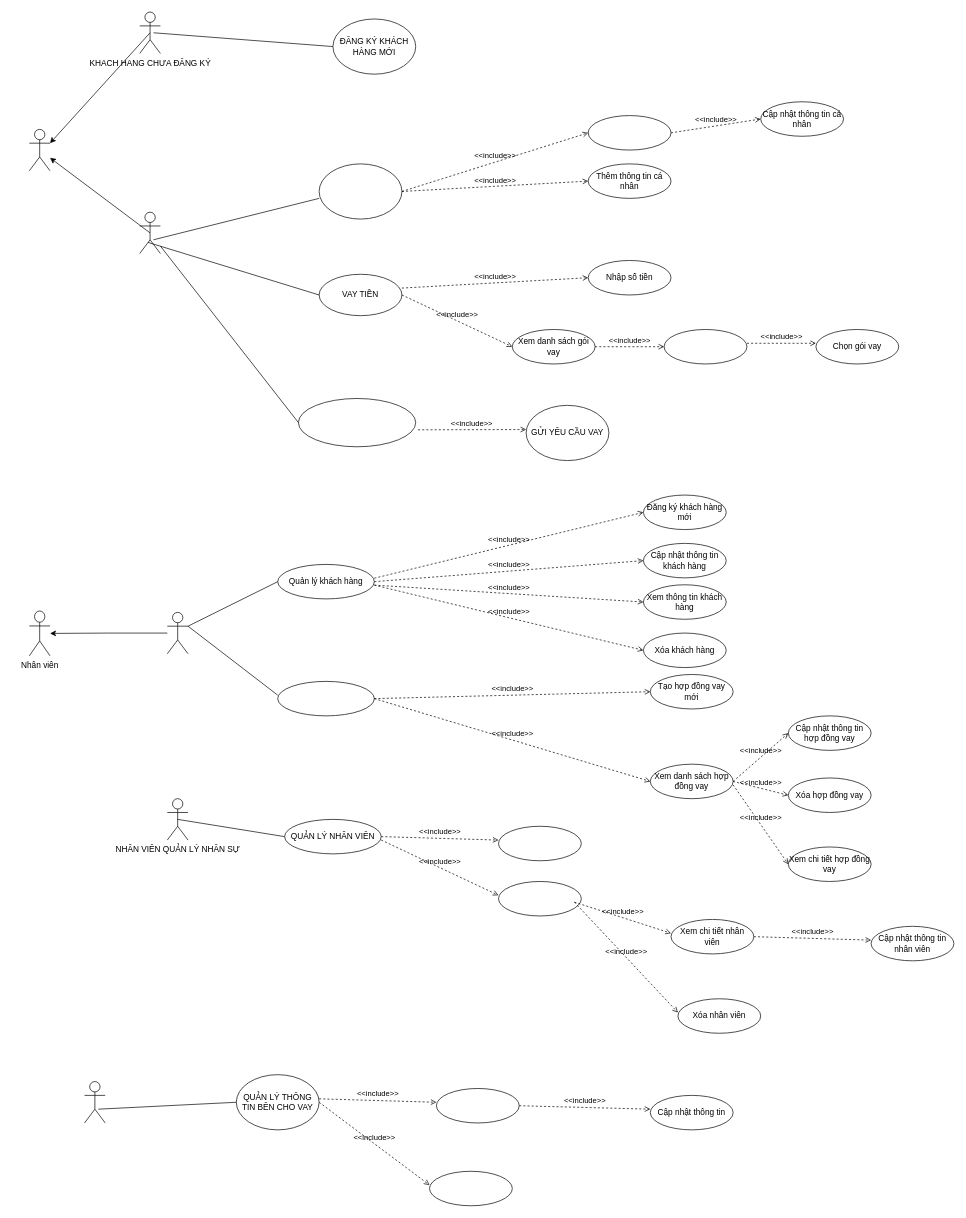
Image size: 966x1218. Some labels were removed from this diagram. The shapes that lost their labels are listed below. From the top down, each one's box as (x1, y1, x2, y2) in pixels, then its label:
(29, 129, 50, 171): KHACH HANG
(588, 115, 671, 150): Xem thông tin cá nhân
(318, 163, 402, 219): QUẢN LÝ THÔNG TIN CÁ NHÂN
(139, 211, 160, 254): KHACH HANG ĐÃ ĐĂNG KÝ
(663, 329, 747, 364): Xem chi tiết gói vay
(298, 398, 416, 447): XEM TRƯỚC THÔNG TIN HỢP ĐỒNG VAY
(167, 612, 188, 654): NHÂN VIÊN GIAO DỊCH
(277, 681, 374, 716): Quản lý hợp đồng vay
(498, 826, 581, 861): Thêm nhân viên mới
(498, 881, 581, 916): Xem danh sách nhân viên
(84, 1081, 105, 1123): DAI DIEN CHO VAY
(436, 1088, 519, 1123): Xem thông tin
(429, 1171, 512, 1206): Thêm thông tin
